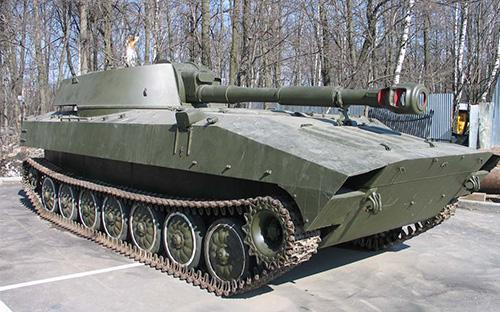sau: (20, 38, 500, 297)
